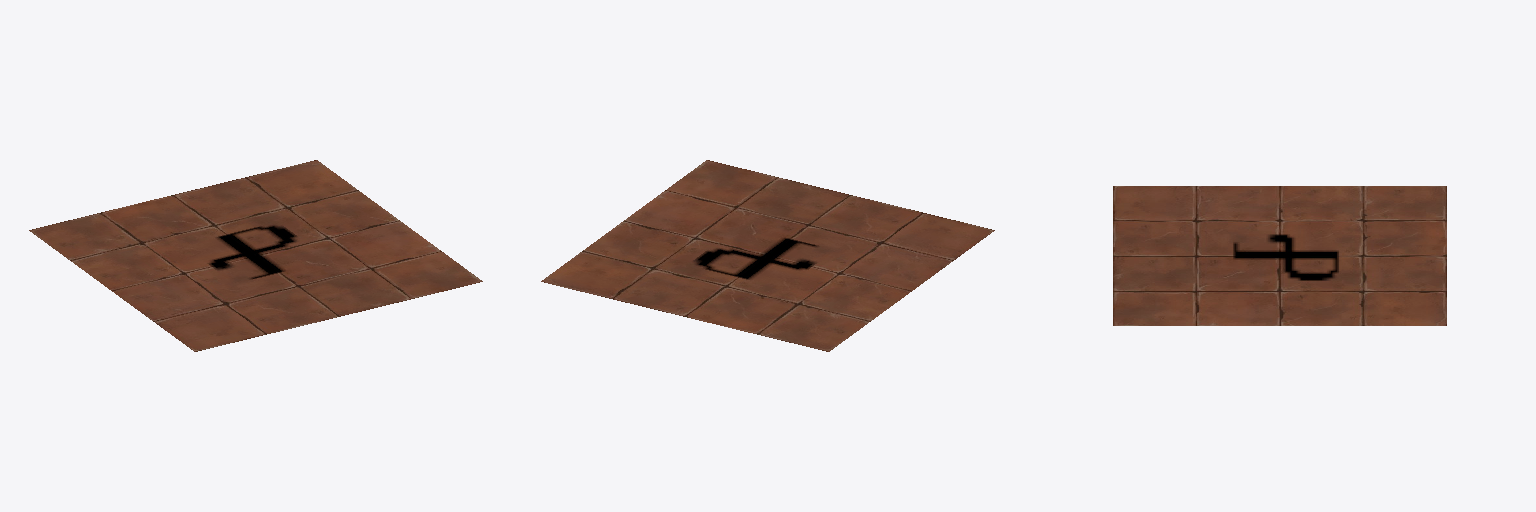
3 renders of one model, left to right at view 1: azimuth 30°, elevation 25°; view 2: azimuth 150°, elevation 25°; view 3: azimuth 270°, elevation 25°, orthographic.
Visible parts, largest first — view 1: pPlane1; view 2: pPlane1; view 3: pPlane1.
Boxes of the visible parts, x1=… form: pPlane1: x1=29, y1=160, x2=482, y2=351; pPlane1: x1=541, y1=160, x2=994, y2=351; pPlane1: x1=1113, y1=186, x2=1446, y2=325.
Bounding box in the file's own units: 8 × 0 × 8.
1 materials, 1 textured.